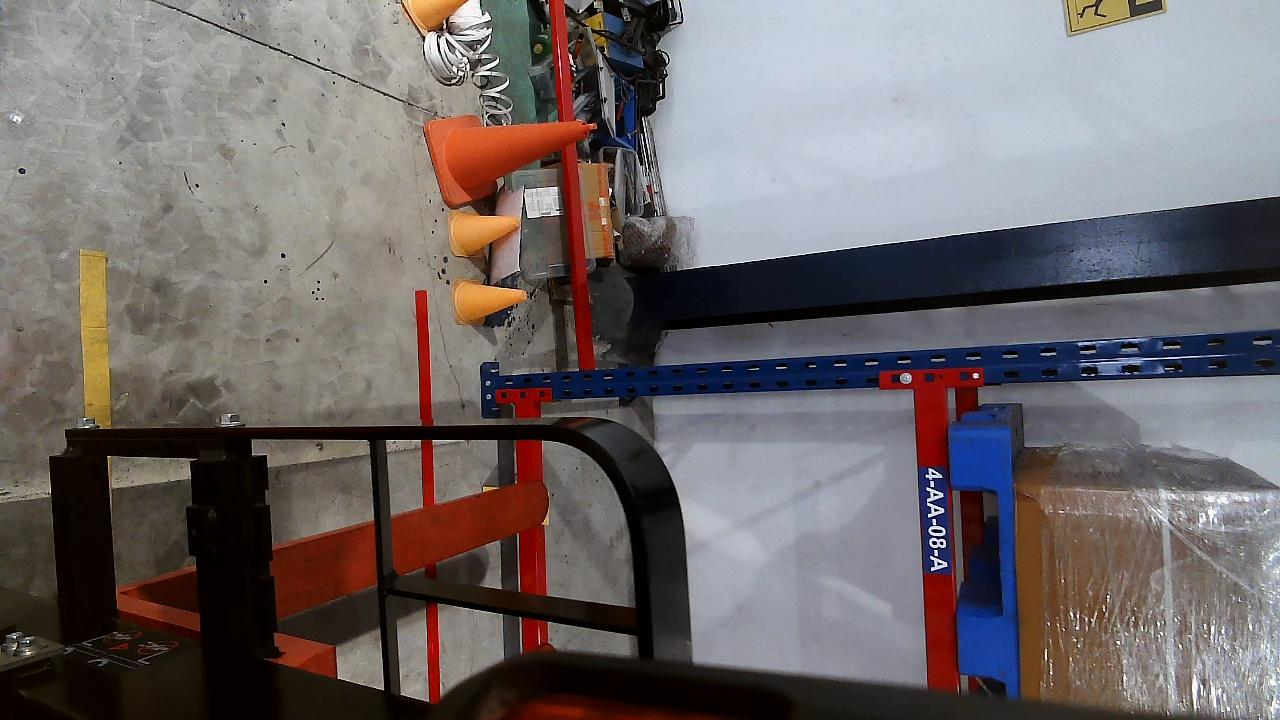h_rack: (910, 384, 964, 693), (512, 402, 547, 648)
red_line: (414, 289, 443, 696)
small_pallet: (948, 426, 1014, 694)
yellow_line: (79, 249, 111, 425)
